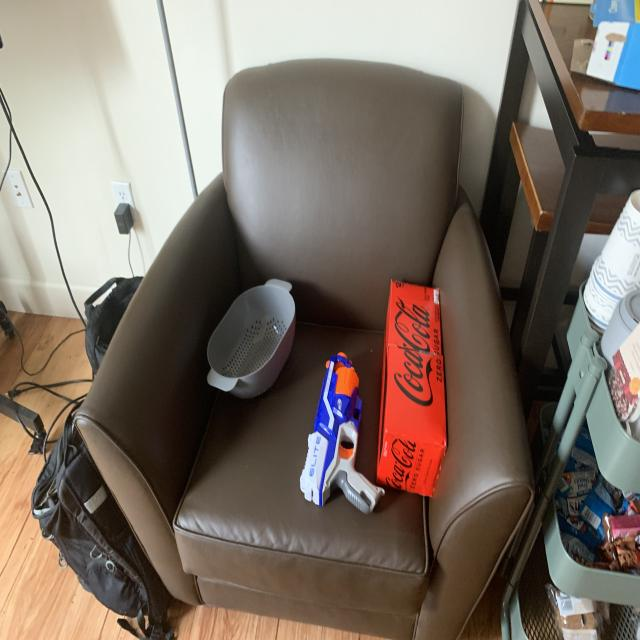nerf-maverik: (294, 344, 392, 528)
